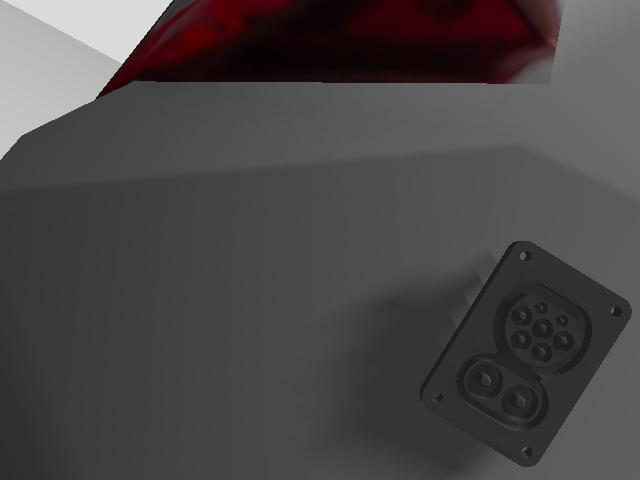EV-socket: (421, 242, 631, 465)
